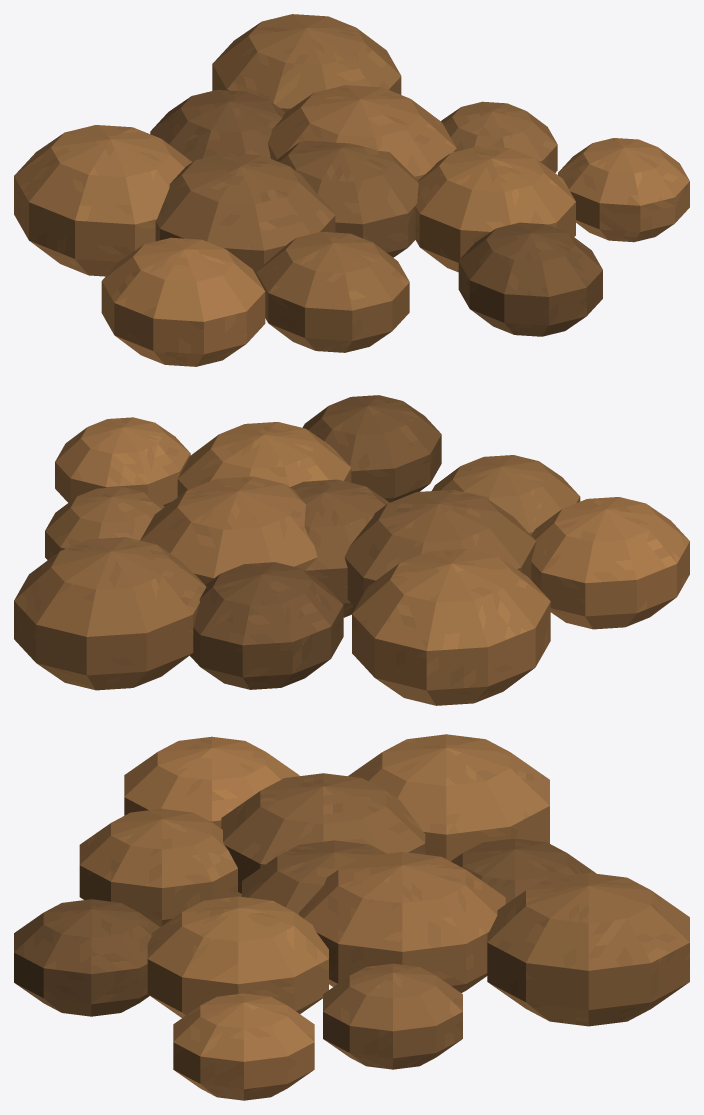
File: peanut_shelled.glb
The picture shows the model from 3 angles, top to bottom: view 1: azimuth 30°, elevation 25°; view 2: azimuth 150°, elevation 25°; view 3: azimuth 270°, elevation 25°; orthographic projection. The views are drawn at different scales.
Visible parts, largest first — view 1: block_grain 7, block_grain 10, block_grain 5, block_grain 2, block_grain 8, block_grain 3, block_grain 9, block_grain 11, block_grain 1, block_grain 0, block_grain 4, block_grain 6; view 2: block_grain 7, block_grain 9, block_grain 10, block_grain 4, block_grain 1, block_grain 2, block_grain 8, block_grain 11, block_grain 3, block_grain 0, block_grain 5, block_grain 6; view 3: block_grain 9, block_grain 1, block_grain 3, block_grain 7, block_grain 5, block_grain 8, block_grain 2, block_grain 11, block_grain 6, block_grain 10, block_grain 0, block_grain 4.
Part boxes in pixels (x1,y1,x2,y2): block_grain 7: (14,125,192,276); block_grain 10: (101,237,265,366); block_grain 5: (256,231,409,352); block_grain 2: (155,153,335,274); block_grain 8: (458,222,602,336); block_grain 3: (415,146,575,272); block_grain 9: (212,14,401,112); block_grain 11: (558,138,689,242); block_grain 1: (268,85,456,179); block_grain 0: (275,140,418,257); block_grain 4: (150,90,285,161); block_grain 6: (441,101,557,172); block_grain 7: (352,549,550,705); block_grain 9: (14,537,206,690); block_grain 10: (531,497,689,629); block_grain 4: (190,562,343,689); block_grain 1: (140,476,317,584); block_grain 2: (344,489,536,607); block_grain 8: (302,395,441,502); block_grain 11: (55,417,190,506); block_grain 3: (177,422,351,496); block_grain 0: (290,479,389,617); block_grain 5: (432,455,580,535); block_grain 6: (45,487,164,560); block_grain 9: (487,872,689,1026); block_grain 1: (299,852,505,992); block_grain 3: (147,896,328,1017); block_grain 7: (348,734,549,861); block_grain 5: (79,808,241,926); block_grain 8: (14,899,159,1016); block_grain 2: (221,773,425,894); block_grain 11: (173,993,314,1100); block_grain 6: (323,963,462,1069); block_grain 10: (124,736,299,828); block_grain 0: (242,840,386,914); block_grain 4: (451,838,596,903).
Bounding box in the file's own units: 0.0716 × 0.0147 × 0.0688.
Materials: 1 (1 with a texture image).
